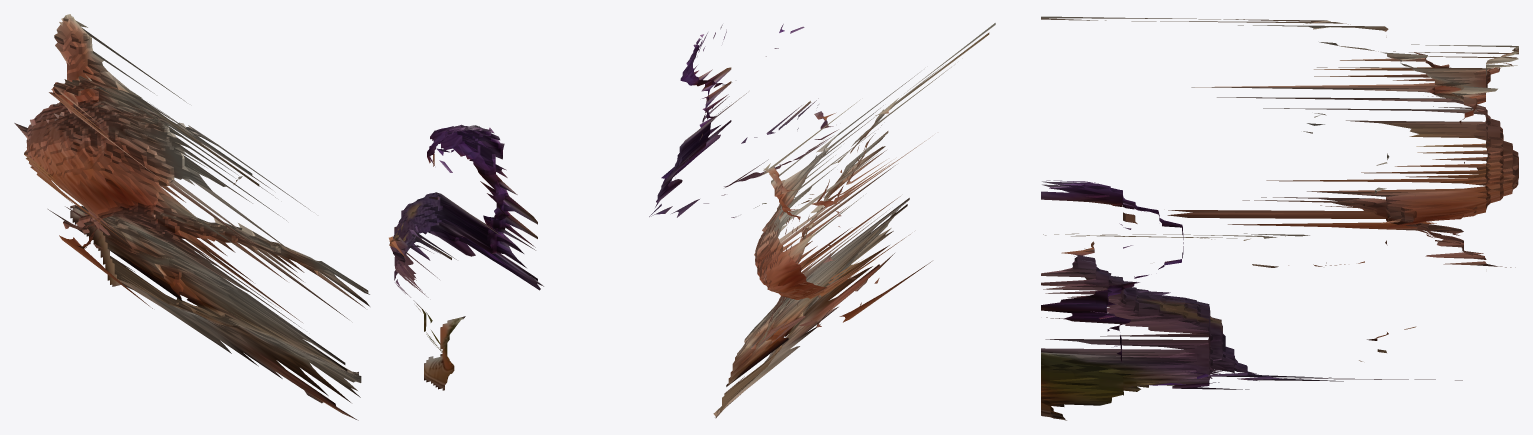
Rendered from frame_00341.glb.
The picture shows the model from 3 angles, left to right: view 1: azimuth 30°, elevation 25°; view 2: azimuth 150°, elevation 25°; view 3: azimuth 270°, elevation 25°; orthographic projection. The views are drawn at different scales.
Parts seen in each view (by area): view 1: geometry_0; view 2: geometry_0; view 3: geometry_0.
Part boxes in pixels (x1,y1,x2,y2): geometry_0: [14, 14, 543, 420]; geometry_0: [649, 23, 995, 418]; geometry_0: [1041, 16, 1518, 420].
Size of the model in its own units: 0.1367 by 0.1184 by 0.16.
Materials: 1 (1 with a texture image).
